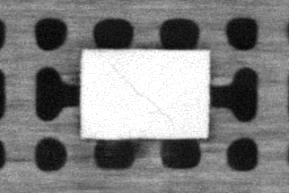DIE_CRACK: (110, 66, 173, 123)
